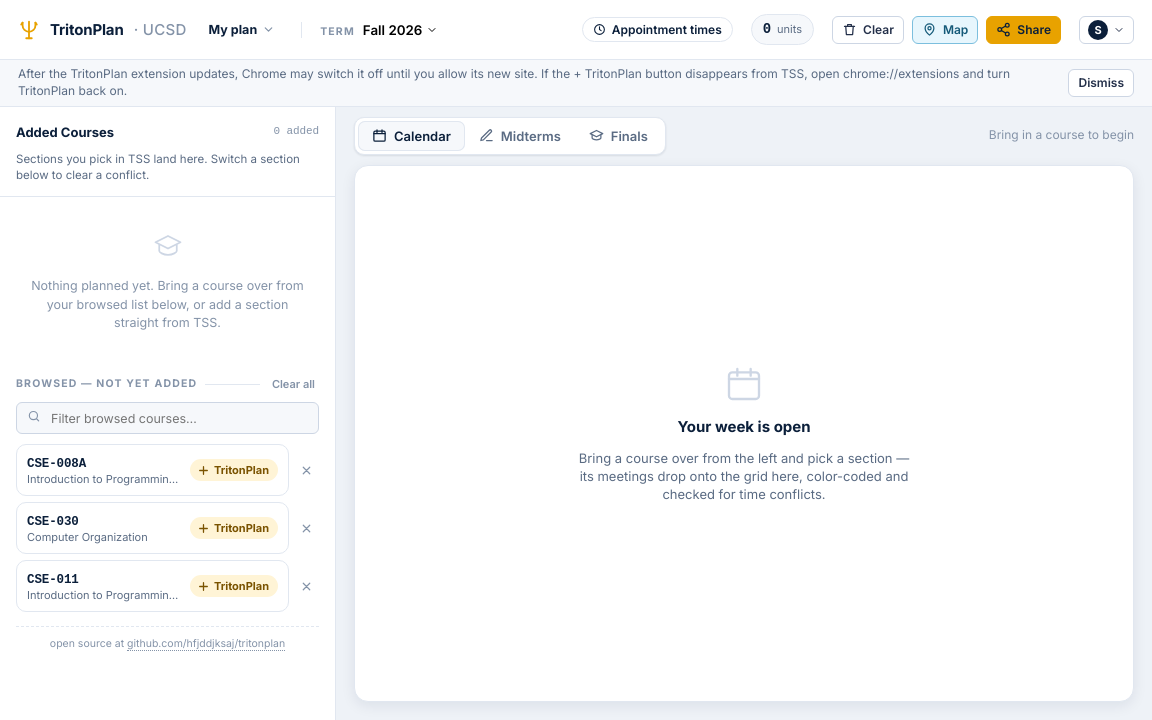
Test: App → campus map › opens the map on the view the planner is showing
Click the tab "Finals" at (618, 136), box [575,121,662,151]
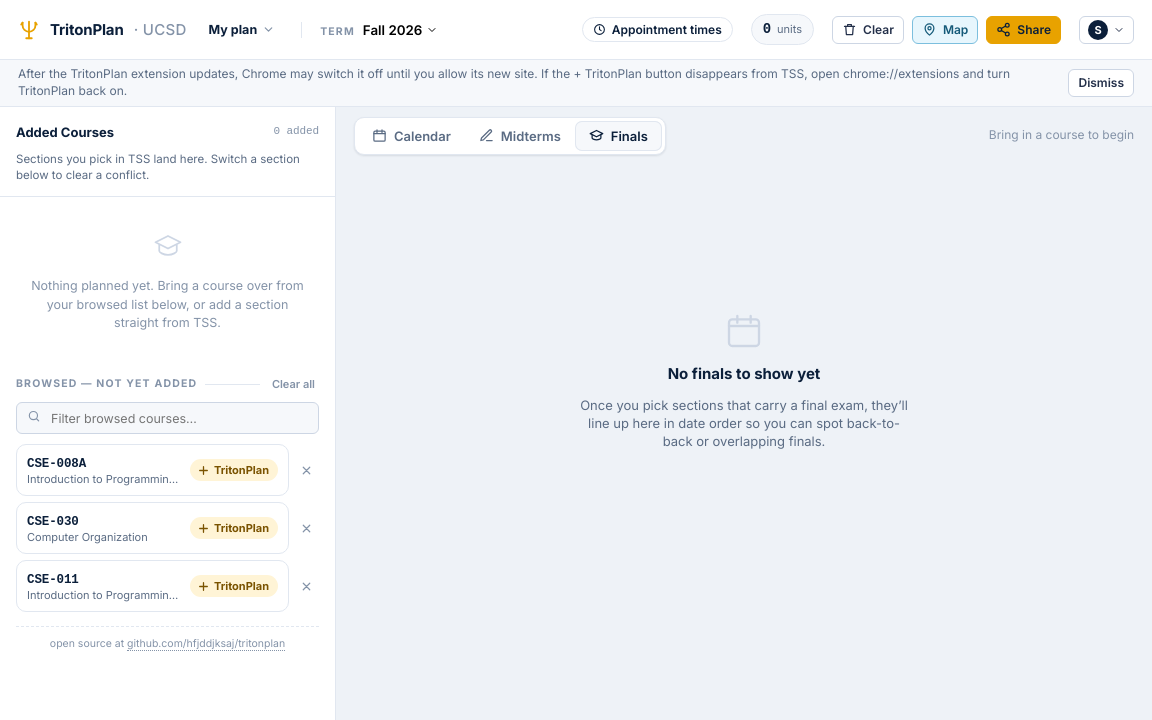
Click the button "Map" at (945, 30), box [912,16,978,44]
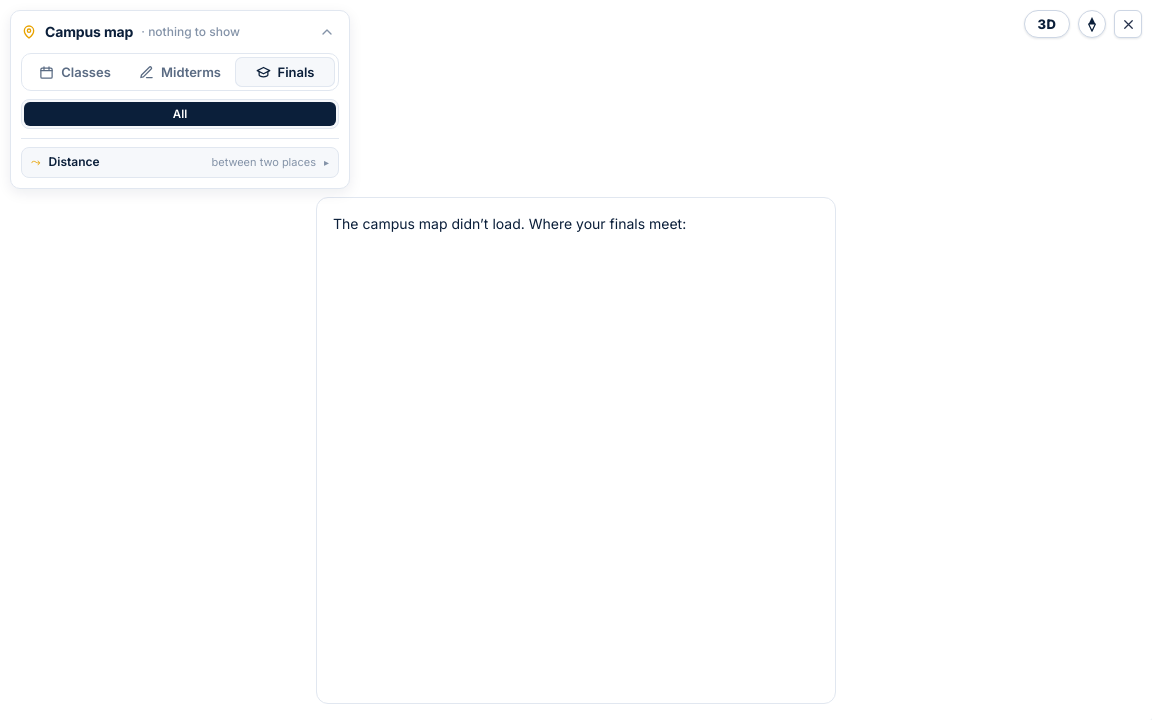
Check: the element with class "campusmap__island" is shown, box [10,10,350,189]
